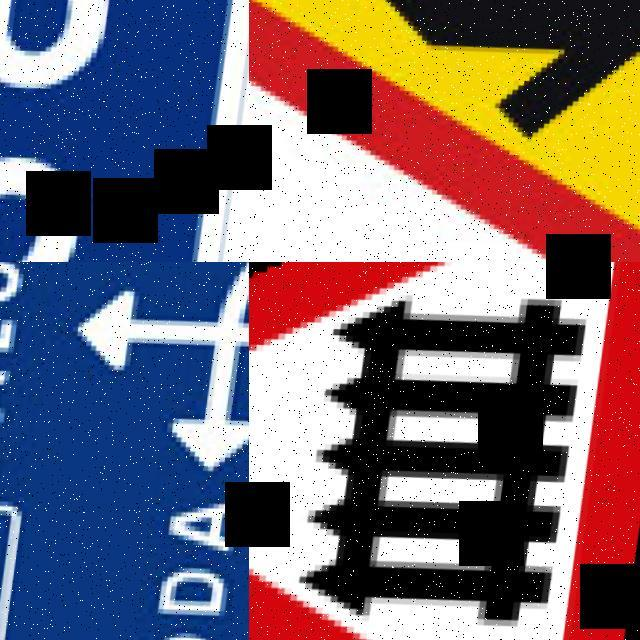166: (249, 0, 640, 262)
85: (0, 262, 249, 640)
Guarded level crossing ahead: (249, 262, 640, 640)
Main highways: (0, 0, 249, 262)
